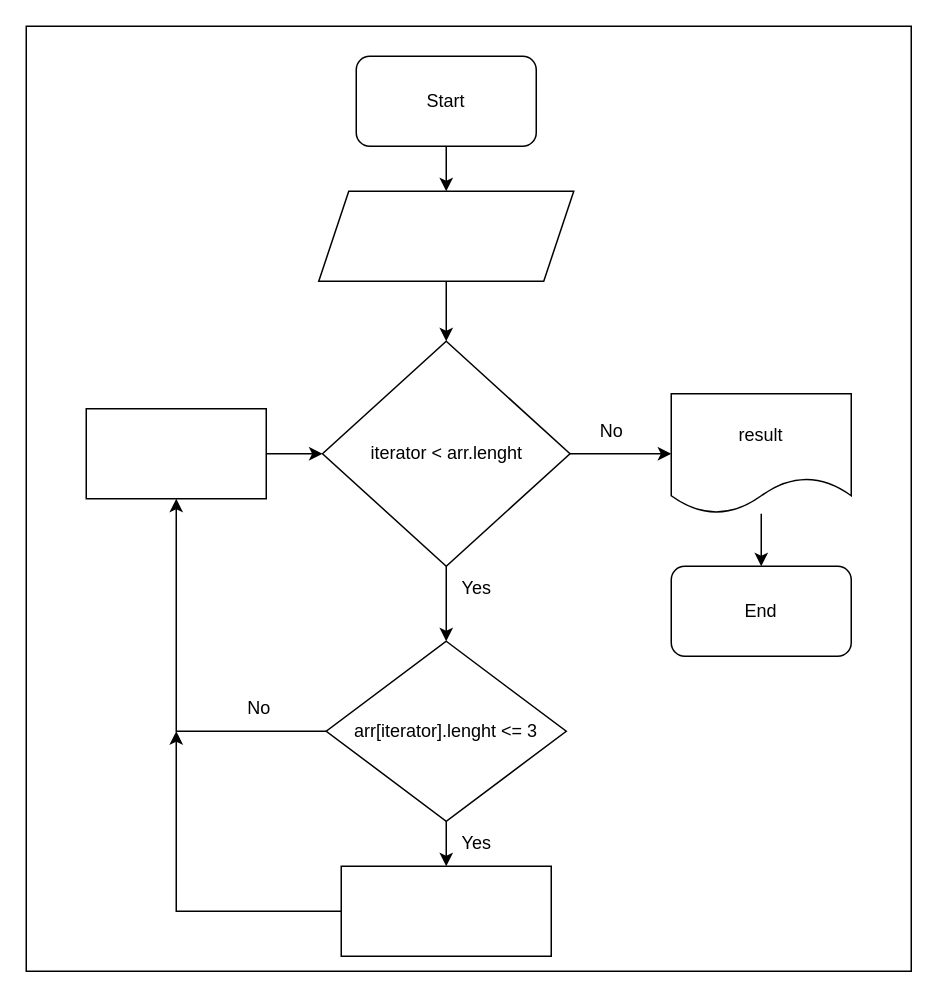
Image size: 938x998. Some labels were removed from this diagram. The shapes that lost their labels are listed below. From the top down, each one's box as (x1, y1, x2, y2) in pixels, then its label:
(317, 190, 574, 281): arr = ["i", "ii", "iii", "iiii"] result = new arr[] iterator = 0
(85, 407, 266, 499): iterator++
(340, 865, 551, 956): result.add(arr[iterator])
